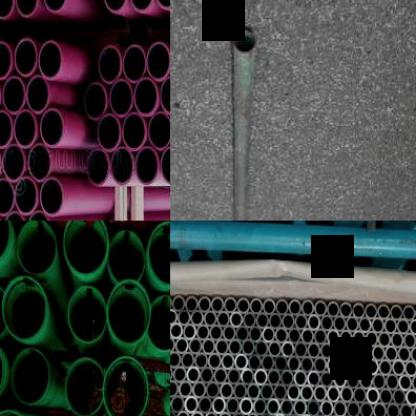pipe: (2, 276, 46, 340), (102, 355, 148, 416), (108, 278, 150, 344), (63, 221, 107, 274), (65, 357, 104, 416), (10, 348, 49, 404), (67, 286, 106, 342), (16, 221, 56, 274), (108, 230, 145, 282), (148, 220, 170, 284), (148, 295, 170, 351), (133, 76, 160, 116), (134, 146, 160, 186), (13, 38, 38, 78), (26, 74, 50, 115), (27, 143, 52, 182), (40, 108, 65, 147), (14, 176, 38, 216), (110, 146, 134, 186), (110, 78, 134, 118), (2, 76, 26, 116), (122, 43, 146, 83), (146, 41, 170, 81), (38, 40, 62, 80), (86, 148, 110, 187), (98, 113, 122, 152), (122, 112, 146, 151), (40, 178, 64, 216), (2, 144, 26, 182), (148, 110, 170, 150), (99, 46, 122, 84), (14, 109, 36, 148), (84, 82, 106, 120), (0, 109, 14, 149), (0, 178, 14, 216), (234, 29, 256, 53), (0, 41, 13, 80), (160, 74, 170, 116), (16, 0, 39, 18), (160, 145, 170, 185), (0, 220, 9, 263), (0, 283, 6, 338), (130, 0, 154, 13), (43, 0, 67, 12), (0, 0, 15, 19), (170, 395, 185, 414), (273, 383, 288, 402), (205, 381, 220, 400), (240, 367, 255, 386), (287, 354, 301, 374), (104, 0, 127, 12), (27, 210, 52, 221), (333, 371, 348, 389), (213, 367, 228, 385), (200, 366, 215, 384), (186, 366, 201, 384), (172, 365, 187, 383), (201, 338, 216, 356), (188, 337, 203, 355), (175, 336, 190, 354), (253, 397, 267, 416), (184, 395, 198, 414), (379, 387, 393, 406), (233, 382, 247, 401), (192, 380, 206, 399), (267, 368, 281, 387), (0, 338, 4, 404), (240, 396, 253, 416), (226, 396, 239, 416), (327, 384, 340, 404), (261, 382, 274, 402), (3, 210, 26, 221), (293, 398, 307, 416), (266, 398, 280, 416), (212, 396, 226, 414), (198, 396, 212, 414), (353, 386, 367, 404), (220, 382, 234, 400), (372, 373, 386, 391), (346, 372, 360, 390), (307, 370, 321, 388), (254, 368, 268, 386), (313, 356, 327, 374), (274, 354, 288, 372), (261, 354, 275, 372), (234, 352, 248, 370), (208, 352, 222, 370), (221, 352, 235, 370), (194, 352, 208, 370), (181, 352, 195, 370), (281, 340, 295, 358), (390, 332, 404, 350), (365, 330, 379, 348), (326, 328, 340, 346), (301, 327, 315, 345), (262, 326, 276, 344), (222, 324, 236, 342), (307, 313, 321, 331), (255, 312, 269, 330), (216, 310, 230, 328), (203, 310, 217, 328), (351, 302, 365, 320), (326, 301, 340, 319), (339, 301, 353, 319), (250, 297, 264, 315), (223, 296, 237, 314), (198, 295, 212, 313), (314, 384, 327, 403), (301, 384, 314, 403), (228, 367, 241, 386), (248, 353, 261, 372), (314, 327, 327, 346), (371, 316, 384, 335), (346, 315, 359, 334), (333, 399, 347, 416), (319, 399, 333, 416), (333, 343, 347, 360), (241, 339, 255, 356), (228, 339, 242, 356), (339, 329, 353, 346), (282, 313, 296, 330), (268, 313, 282, 330), (177, 309, 191, 326), (211, 296, 225, 313), (307, 398, 320, 416), (280, 398, 293, 416), (392, 388, 405, 406), (287, 384, 300, 402), (247, 383, 260, 401), (179, 380, 192, 398), (399, 374, 412, 392), (320, 370, 333, 388), (294, 370, 307, 388), (281, 369, 294, 387), (392, 359, 405, 377), (379, 358, 392, 376), (366, 358, 379, 376), (327, 356, 340, 374), (301, 356, 314, 374), (398, 345, 411, 363), (385, 345, 398, 363), (372, 344, 385, 362), (359, 344, 372, 362), (320, 342, 333, 360), (255, 340, 268, 358), (215, 338, 228, 356), (353, 330, 366, 348), (288, 326, 301, 344), (275, 326, 288, 344), (249, 326, 262, 344), (210, 324, 223, 342), (197, 324, 210, 342), (170, 322, 183, 340), (384, 318, 397, 336), (333, 314, 346, 332), (320, 314, 333, 332), (295, 313, 308, 331), (243, 311, 256, 329), (191, 309, 204, 327), (314, 300, 327, 318), (276, 298, 289, 316), (185, 295, 198, 313), (367, 386, 379, 405), (359, 400, 373, 416), (346, 400, 360, 416), (346, 344, 360, 360), (294, 342, 308, 358), (301, 300, 315, 316), (288, 300, 302, 316), (340, 386, 353, 403), (340, 357, 353, 374), (307, 342, 320, 359), (268, 341, 281, 358), (403, 332, 416, 349), (230, 311, 243, 328), (390, 304, 403, 321), (365, 303, 378, 320), (263, 298, 276, 315), (237, 297, 250, 314), (172, 295, 185, 312), (404, 388, 416, 406), (360, 372, 372, 390), (404, 359, 416, 377), (354, 358, 366, 376), (359, 316, 371, 334), (403, 304, 415, 322), (378, 303, 390, 321), (373, 401, 387, 416), (386, 374, 399, 390), (378, 332, 391, 348), (236, 326, 249, 342), (183, 324, 196, 340), (397, 318, 410, 334), (170, 350, 181, 368), (399, 402, 413, 416), (387, 401, 400, 416), (170, 380, 179, 398), (154, 0, 170, 9), (170, 308, 178, 326), (409, 318, 416, 336), (410, 345, 416, 363), (170, 336, 176, 354), (175, 409, 190, 416), (190, 409, 204, 416), (244, 410, 259, 416), (217, 410, 232, 416), (203, 410, 218, 416), (412, 374, 416, 392), (231, 412, 246, 416), (273, 412, 287, 416), (170, 364, 173, 382), (260, 412, 273, 416), (286, 413, 300, 416), (170, 409, 176, 416), (413, 403, 416, 416), (313, 414, 327, 416), (299, 414, 313, 416), (327, 414, 340, 416), (415, 304, 416, 322)
